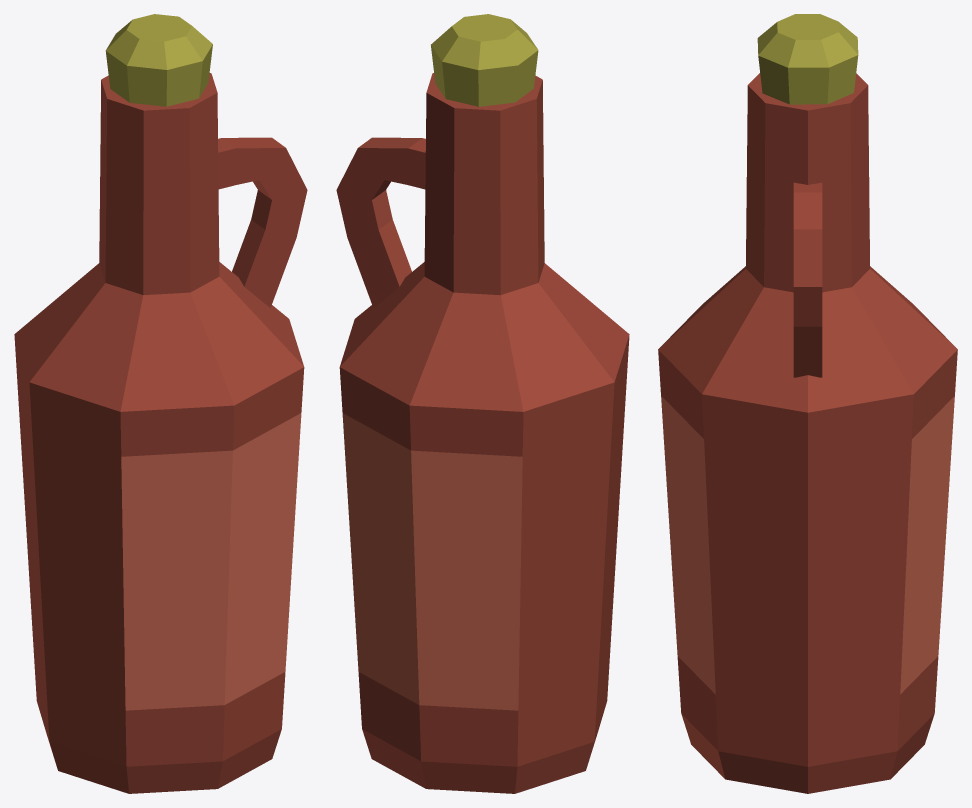
The model's file is Bottle_5_Red.fbx.
3 views of the same model, side by side, from view 1: azimuth 30°, elevation 25°; view 2: azimuth 150°, elevation 25°; view 3: azimuth 270°, elevation 25° (orthographic).
Parts seen in each view (by area): view 1: Bottle_5_Red_Part_1, Bottle_5_Red_Part_2, Bottle_5_Red_Part_3; view 2: Bottle_5_Red_Part_1, Bottle_5_Red_Part_2, Bottle_5_Red_Part_3; view 3: Bottle_5_Red_Part_1, Bottle_5_Red_Part_2, Bottle_5_Red_Part_3.
Boxes of the visible parts, x1,y1,x2,y2 form: Bottle_5_Red_Part_1: (14,73,307,793); Bottle_5_Red_Part_2: (121,413,301,710); Bottle_5_Red_Part_3: (105,14,212,106); Bottle_5_Red_Part_1: (336,73,629,793); Bottle_5_Red_Part_2: (342,413,522,710); Bottle_5_Red_Part_3: (431,14,538,106); Bottle_5_Red_Part_1: (658,73,957,793); Bottle_5_Red_Part_2: (661,396,954,694); Bottle_5_Red_Part_3: (757,14,858,104).
Bounding box in the file's own units: 12.08 × 30.59 × 11.58.
